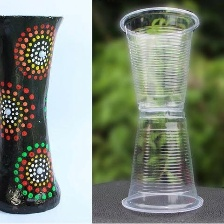glass: (106, 104, 209, 214), (116, 5, 202, 113)
